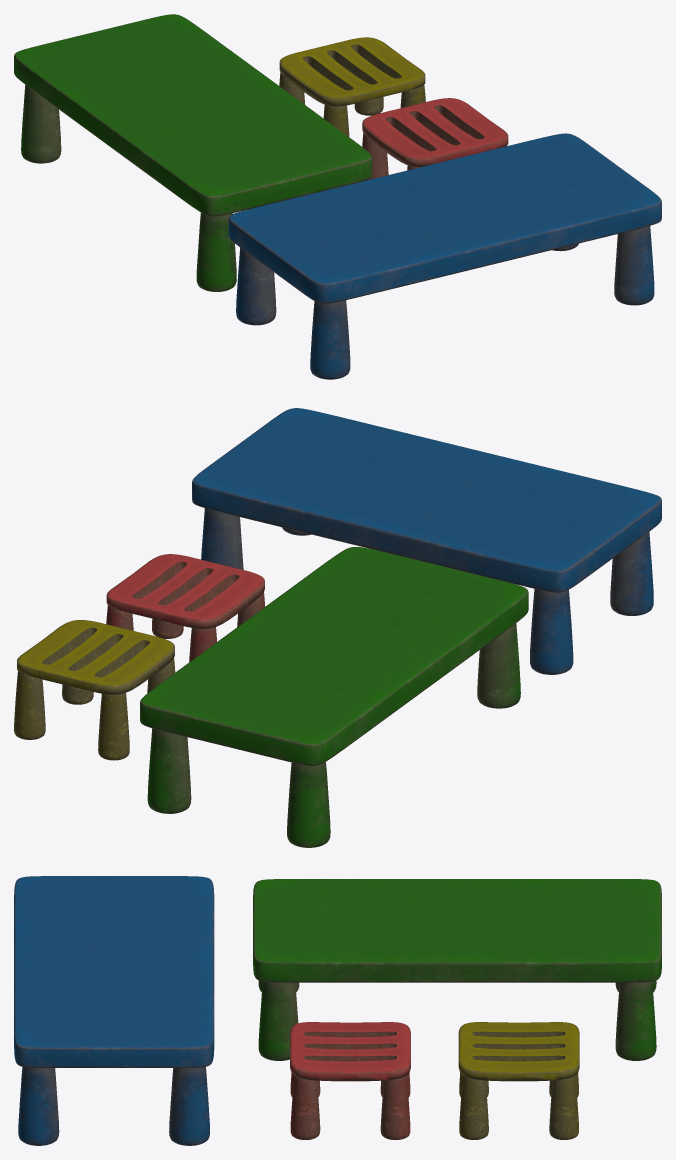
File: столдетскийскетчфаб.fbx
The picture shows the model from 3 angles, top to bottom: view 1: azimuth 30°, elevation 25°; view 2: azimuth 150°, elevation 25°; view 3: azimuth 270°, elevation 25°; orthographic projection. The views are drawn at different scales.
Visible parts, largest first — view 1: Cube, Cube.001, Цилиндр.002, Куб.001, Куб, Цилиндр.003, Цилиндр.004, Цилиндр.001; view 2: Cube, Cube.001, Цилиндр.003, Цилиндр.002, Куб, Куб.001, Цилиндр.004, Цилиндр.001; view 3: Cube.001, Cube, Куб.001, Куб, Цилиндр.002, Цилиндр.003, Цилиндр.001, Цилиндр.004.
Part boxes in pixels (bbox=[...]): Cube: bbox=[228, 133, 661, 303]; Cube.001: bbox=[14, 14, 372, 216]; Цилиндр.002: bbox=[236, 226, 654, 379]; Куб.001: bbox=[279, 37, 425, 106]; Куб: bbox=[362, 98, 508, 167]; Цилиндр.003: bbox=[21, 85, 236, 291]; Цилиндр.004: bbox=[279, 72, 425, 136]; Цилиндр.001: bbox=[362, 133, 507, 181]; Cube: bbox=[192, 408, 661, 592]; Cube.001: bbox=[140, 547, 528, 765]; Цилиндр.003: bbox=[147, 623, 520, 847]; Цилиндр.002: bbox=[201, 508, 653, 674]; Куб: bbox=[106, 554, 264, 628]; Куб.001: bbox=[17, 620, 174, 694]; Цилиндр.004: bbox=[14, 658, 175, 760]; Цилиндр.001: bbox=[106, 592, 265, 662]; Cube.001: bbox=[253, 879, 661, 982]; Cube: bbox=[14, 876, 214, 1067]; Куб.001: bbox=[458, 1022, 579, 1081]; Куб: bbox=[290, 1022, 410, 1081]; Цилиндр.002: bbox=[18, 1067, 209, 1145]; Цилиндр.003: bbox=[258, 980, 656, 1060]; Цилиндр.001: bbox=[290, 1072, 410, 1139]; Цилиндр.004: bbox=[459, 1072, 578, 1139].
Bounding box in the file's own units: 408 × 112 × 647.
